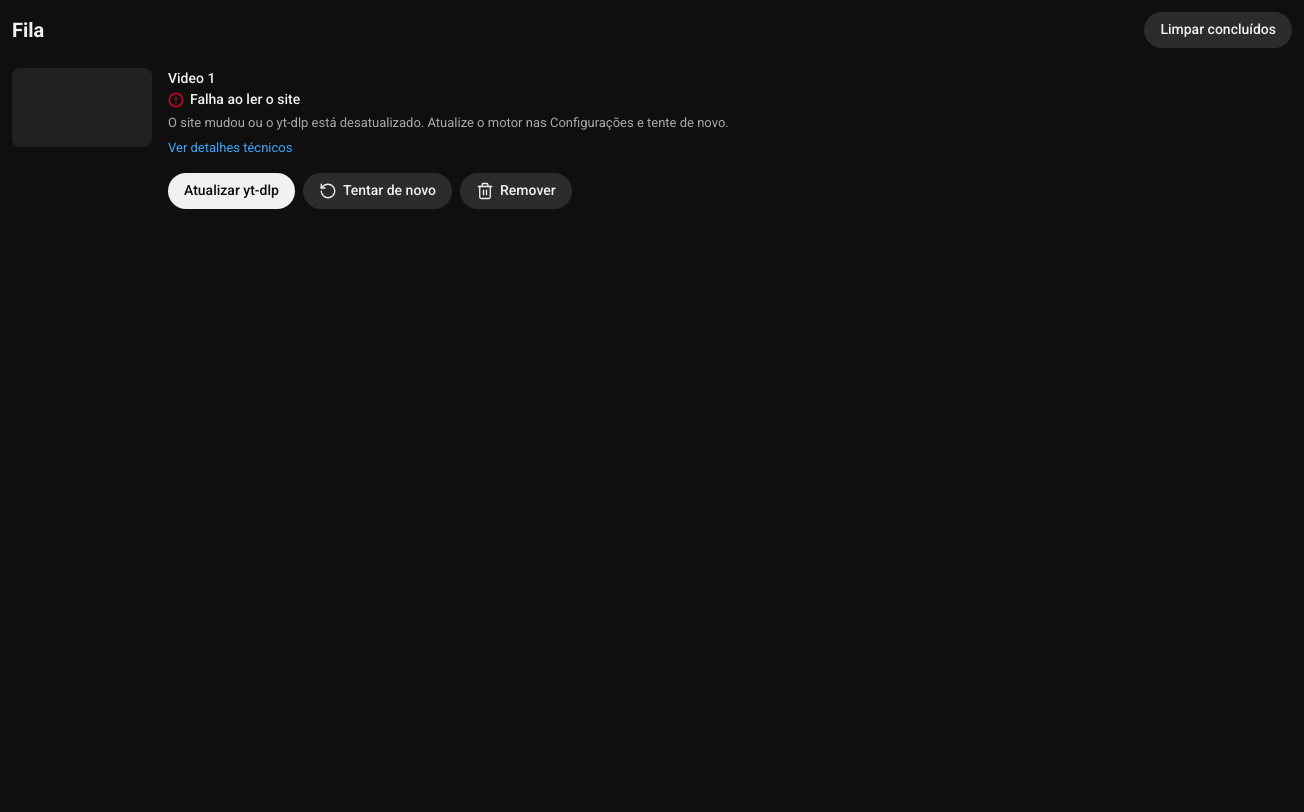
Test: error job › a failing action is reported in a toast and the job stays in error
Click the button "Atualizar yt-dlp" at (231,191), box top-left (168, 173), bottom-right (295, 209)
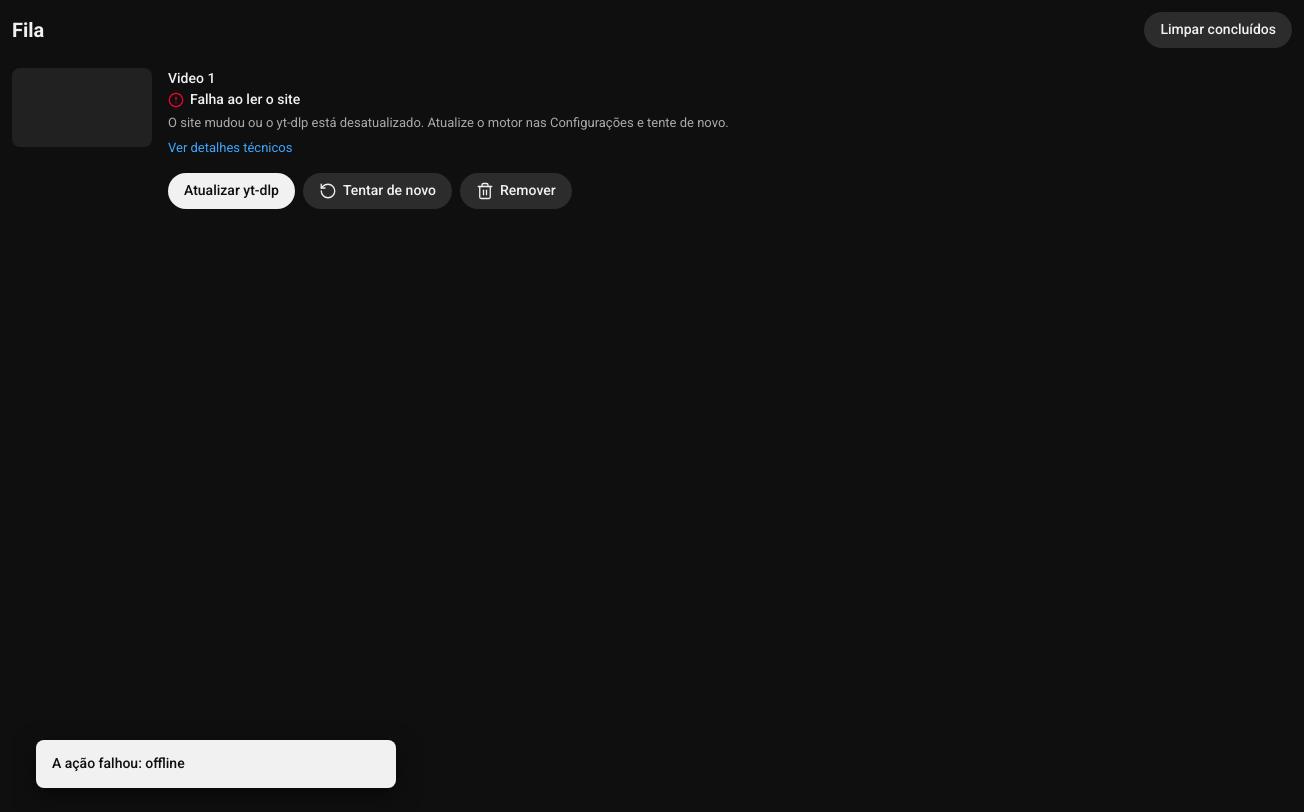
Result: the text "A ação falhou: offline" is shown at top-left (52, 755), bottom-right (185, 771)
